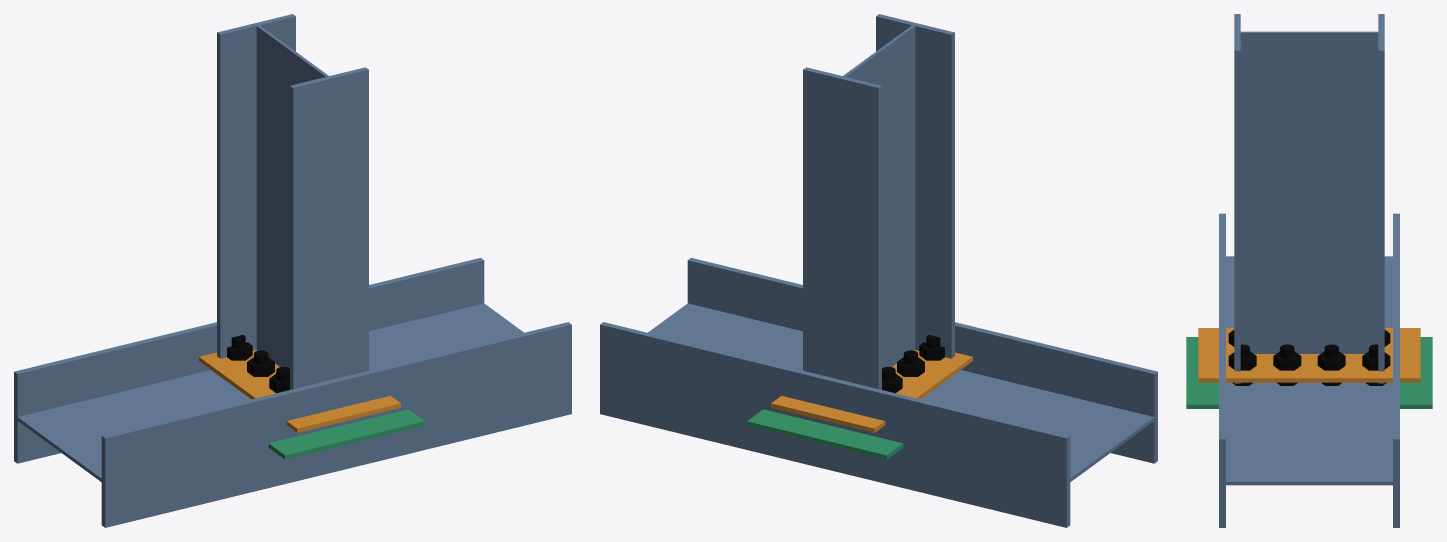
File: detail_B6_beam_to_beam_connection.obj
The picture shows the model from 3 angles, left to right: view 1: azimuth 30°, elevation 25°; view 2: azimuth 150°, elevation 25°; view 3: azimuth 270°, elevation 25°; orthographic projection.
Parts seen in each view (by area): view 1: B6_primary_beam_top_flange, B6_secondary_beam_top_flange, B6_primary_beam_bottom_flange, B6_primary_beam_web, B6_secondary_beam_bottom_flange, B6_secondary_beam_web, B6_PL8_fin_plate_200x375, B6_PL8_beam_web_doubler; view 2: B6_primary_beam_bottom_flange, B6_secondary_beam_bottom_flange, B6_primary_beam_top_flange, B6_primary_beam_web, B6_secondary_beam_top_flange, B6_secondary_beam_web, B6_PL8_fin_plate_200x375, B6_PL8_beam_web_doubler; view 3: B6_secondary_beam_web, B6_primary_beam_web, B6_PL8_fin_plate_200x375, B6_PL8_beam_web_doubler, B6_secondary_beam_top_flange, B6_secondary_beam_bottom_flange, B6_primary_beam_top_flange, B6_primary_beam_bottom_flange, bolt_M24_B6_4, bolt_M24_B6_6, bolt_M24_B6_2, bolt_M24_B6_8.
Boxes of the visible parts, x1,y1,x2,y2 form: B6_primary_beam_top_flange: (101,322,571,527); B6_secondary_beam_top_flange: (290,67,368,389); B6_primary_beam_bottom_flange: (14,258,484,463); B6_primary_beam_web: (17,303,523,481); B6_secondary_beam_bottom_flange: (217,14,295,358); B6_secondary_beam_web: (256,25,328,368); B6_PL8_fin_plate_200x375: (199,350,400,432); B6_PL8_beam_web_doubler: (268,409,424,459); B6_primary_beam_bottom_flange: (600,322,1070,527); B6_secondary_beam_bottom_flange: (803,67,881,389); B6_primary_beam_top_flange: (687,258,1157,463); B6_primary_beam_web: (648,303,1154,481); B6_secondary_beam_top_flange: (876,14,954,358); B6_secondary_beam_web: (843,25,915,368); B6_PL8_fin_plate_200x375: (771,350,972,432); B6_PL8_beam_web_doubler: (747,409,903,459); B6_secondary_beam_web: (1240,31,1378,353); B6_primary_beam_web: (1226,256,1392,485); B6_PL8_fin_plate_200x375: (1198,328,1420,382); B6_PL8_beam_web_doubler: (1186,337,1432,408); B6_secondary_beam_top_flange: (1234,14,1240,383); B6_secondary_beam_bottom_flange: (1378,14,1384,383); B6_primary_beam_top_flange: (1219,213,1225,527); B6_primary_beam_bottom_flange: (1393,213,1399,527); bolt_M24_B6_4: (1317,344,1345,385); bolt_M24_B6_6: (1273,344,1301,385); bolt_M24_B6_2: (1362,344,1390,385); bolt_M24_B6_8: (1228,344,1256,385).
Size of the model in its own units: 900 by 712 by 415.
